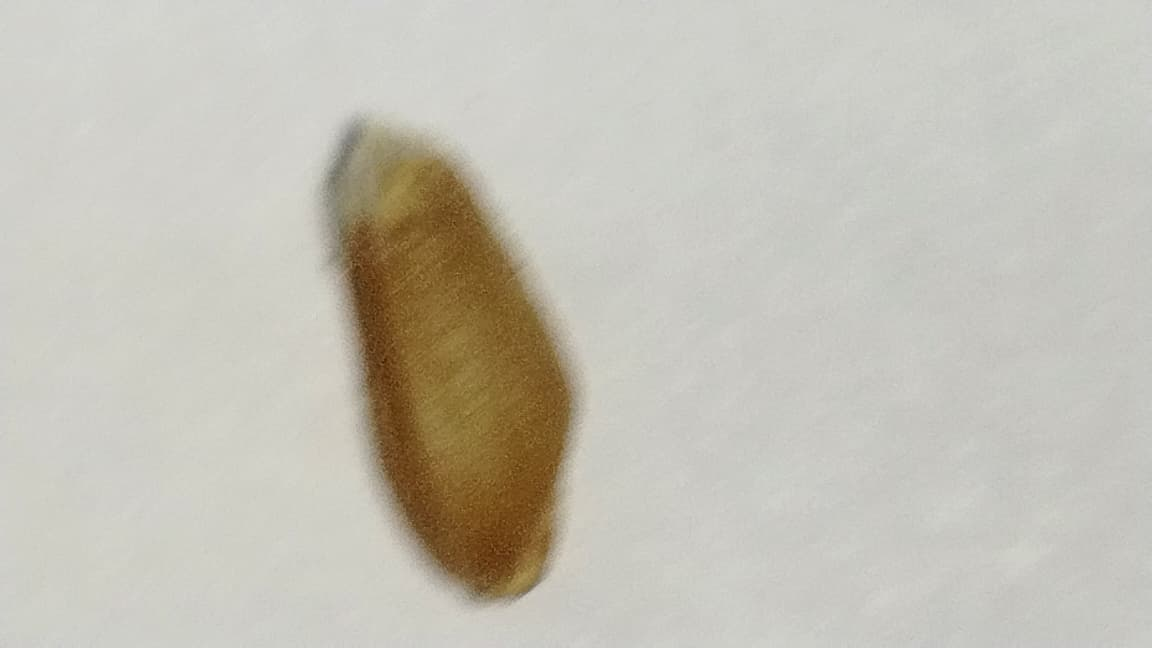healthy: (327, 129, 576, 600)
